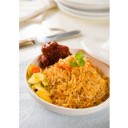briyani: (40, 43, 105, 106)
